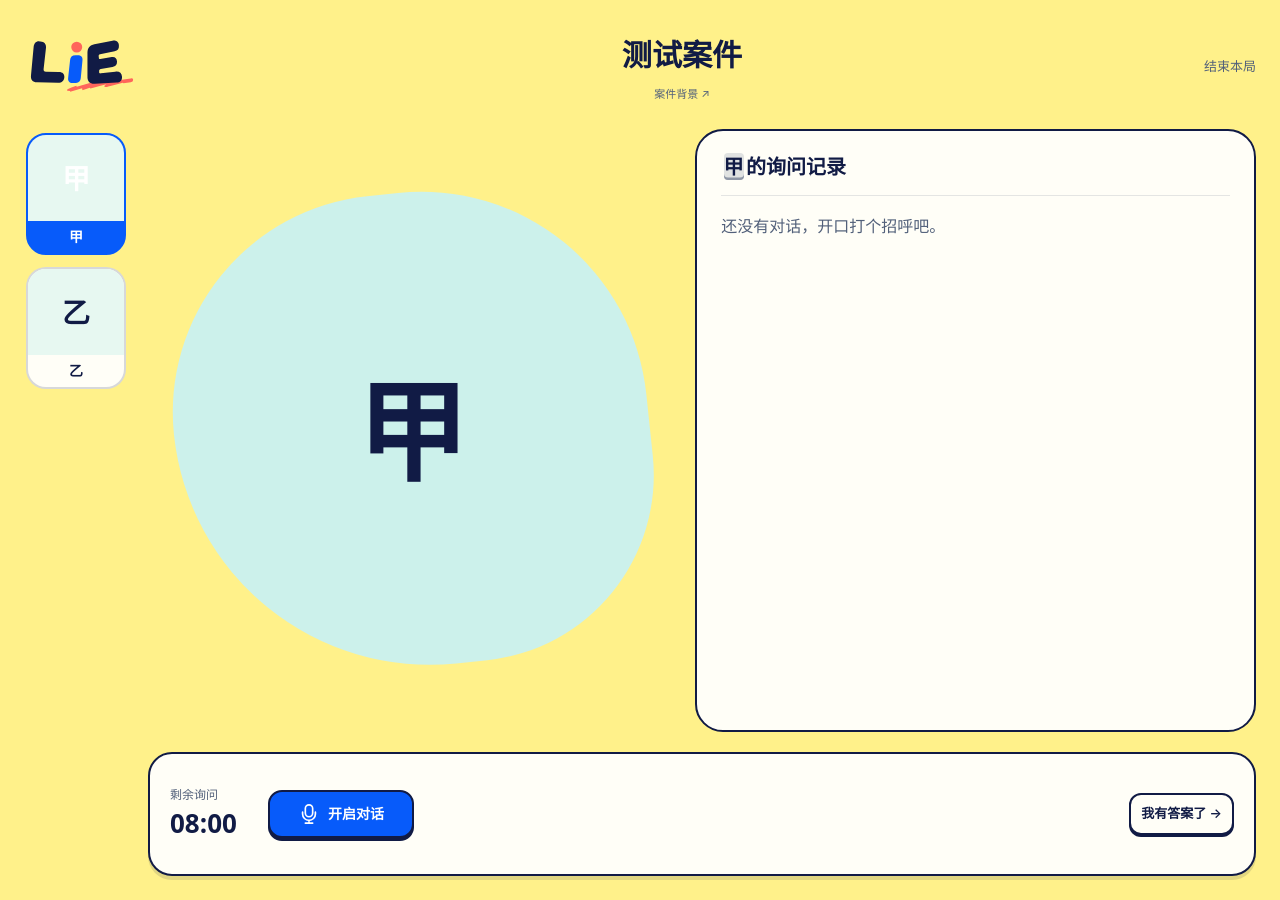
Test: game screens › offers cancellation while microphone and service preparation is pending
The width and height of the screenshot is (1280, 900).
What coordinates should you click on to do the following:
click the button "开启对话"
I would click on:
 (341, 814)
Its box is x1=268 y1=790 x2=414 y2=838.
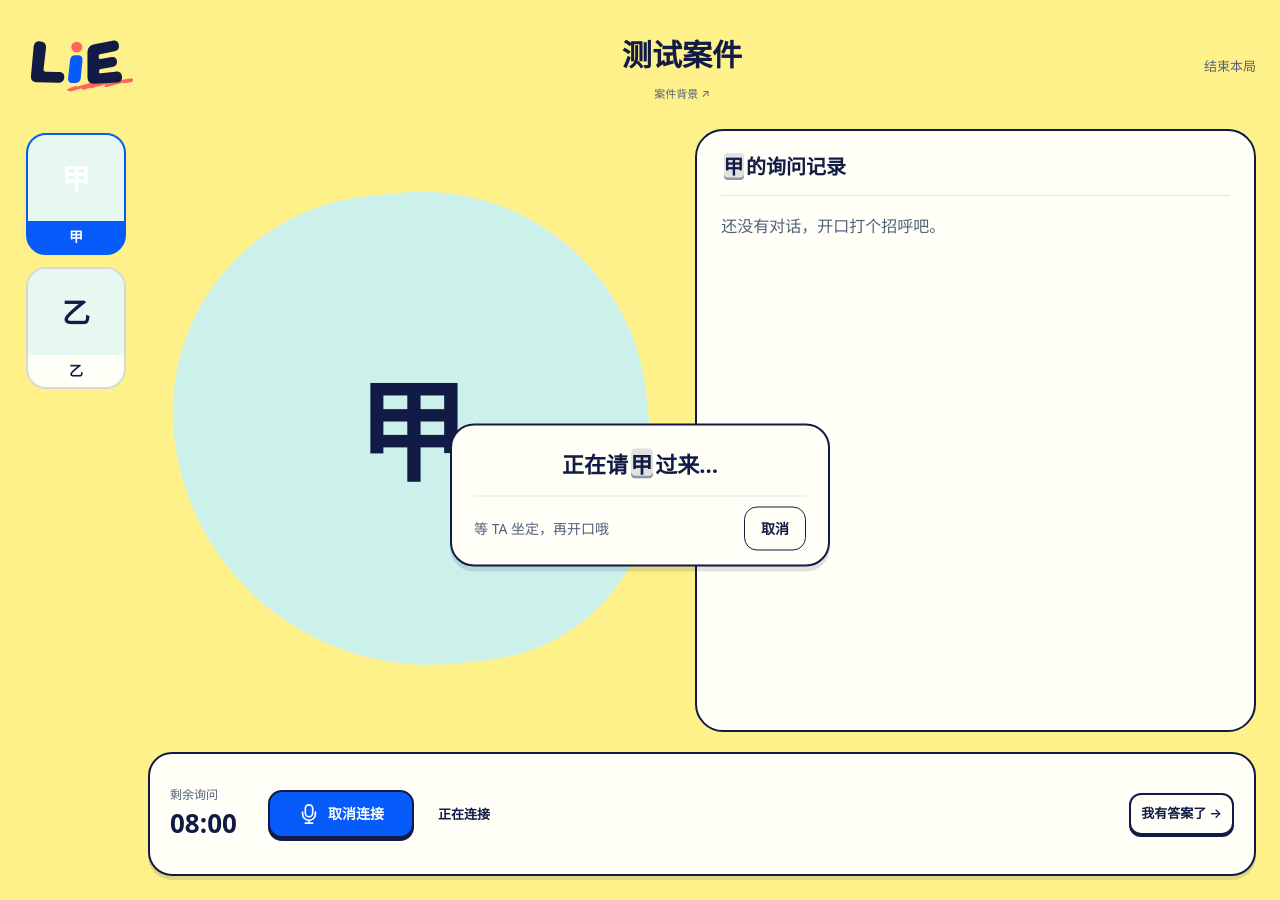
Check: the button "取消连接" is shown
Check: the element named "语音对话控制" shows "正在连接", box x1=438 y1=805 x2=490 y2=823
What coordinates should you click on to do the following:
click the button "取消连接"
I would click on:
 (341, 814)
Its box is x1=268 y1=790 x2=414 y2=838.
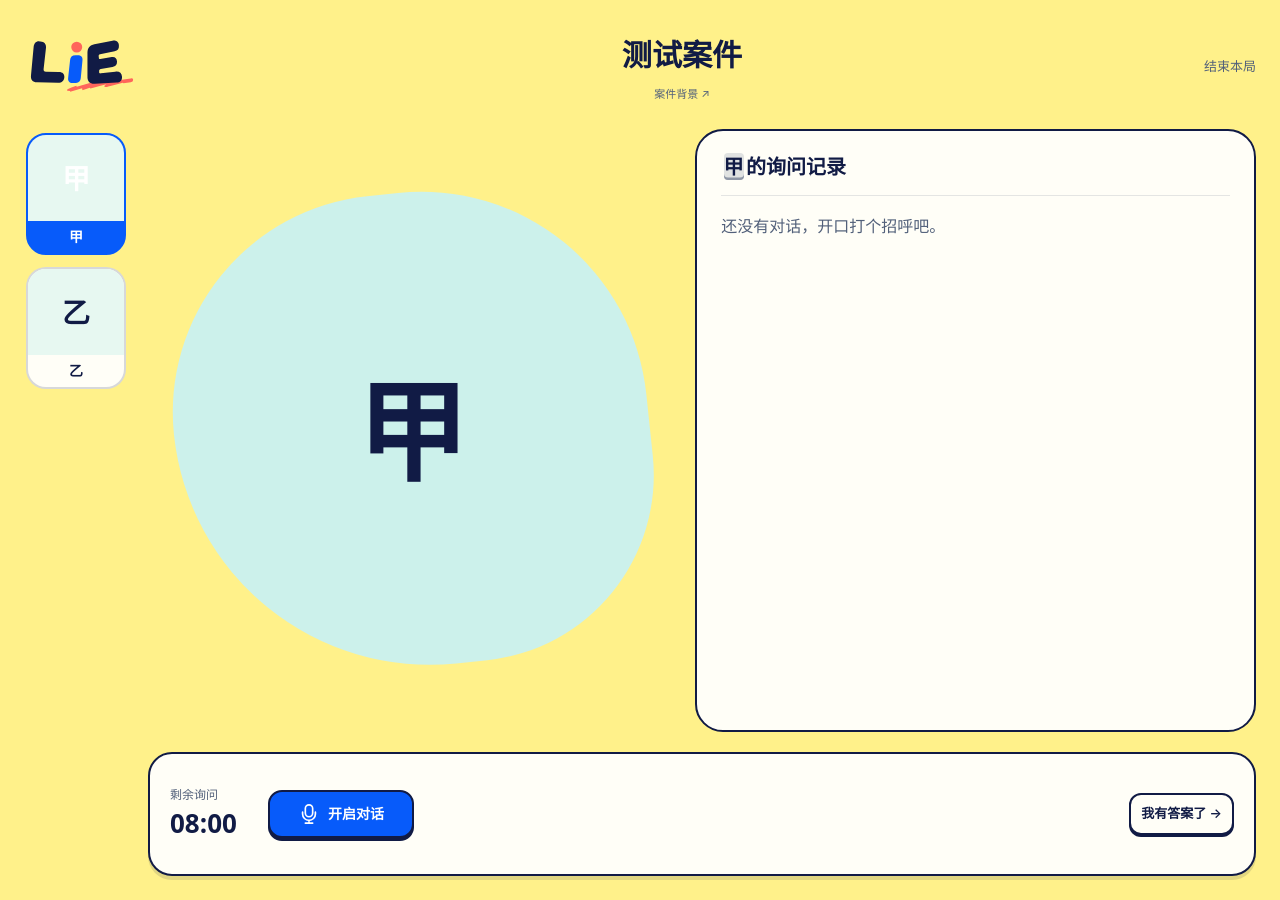
Check: the button "开启对话" is shown, box x1=268 y1=790 x2=414 y2=838
